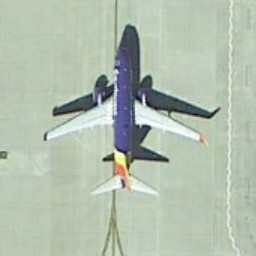Airplane: (35, 35, 212, 215)
